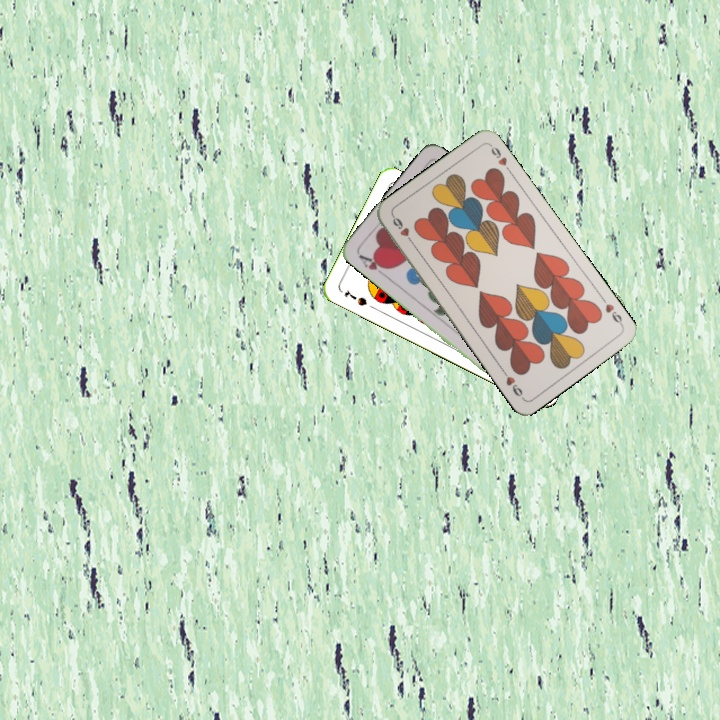H9: (388, 212, 417, 247), (597, 293, 626, 328)
HA: (354, 250, 391, 279)
S7: (340, 285, 369, 308)
